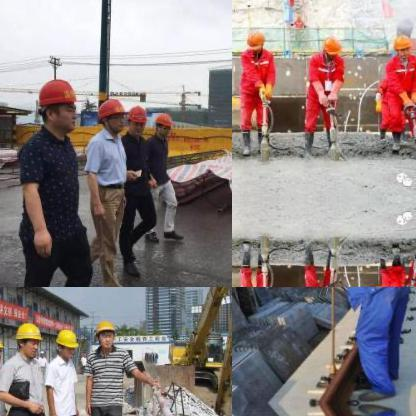Helmet: (35, 76, 79, 134), (98, 96, 127, 130), (12, 321, 40, 355), (91, 316, 117, 350), (55, 326, 79, 360), (389, 30, 415, 54), (150, 110, 170, 140), (319, 34, 343, 58), (243, 26, 265, 52), (127, 102, 146, 132)
